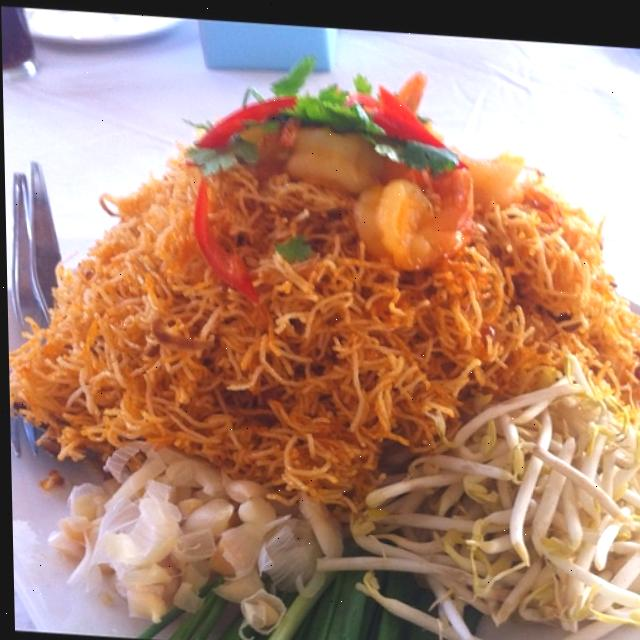面条主食: (15, 49, 640, 640)
